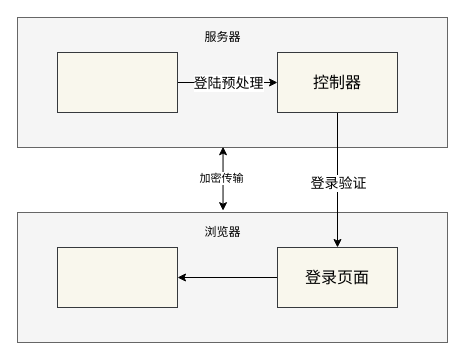
Some shapes in this 465 by 360 pixel diagram are drawn without their labels. Each missing label, with the box of its shape:
拦截器: (56, 52, 178, 112)
聊天页面: (56, 246, 178, 308)
